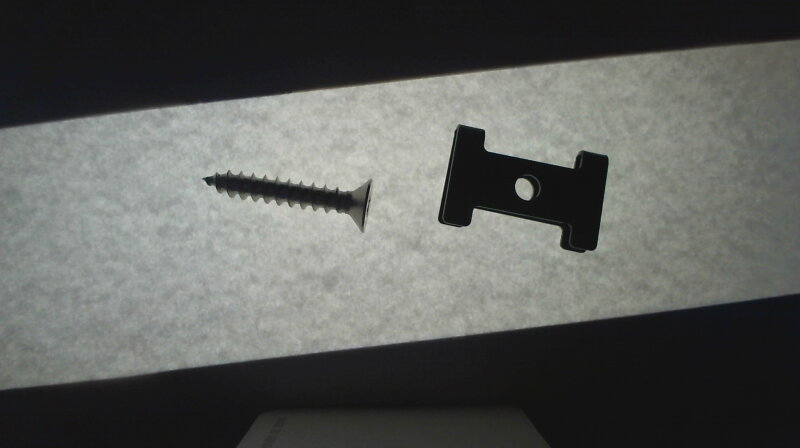O002: (440, 123, 608, 253)
S001: (203, 168, 376, 231)
